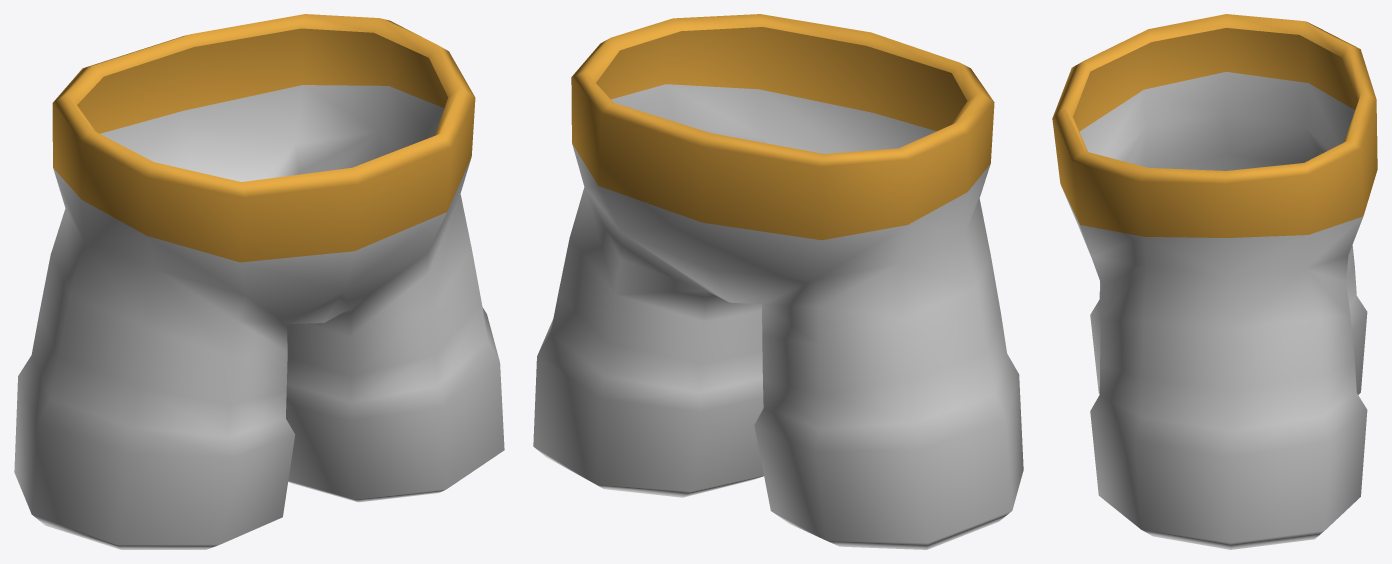
Rendered from Bottom_04_Slim.fbx.
3 views of the same model, side by side, from view 1: azimuth 30°, elevation 25°; view 2: azimuth 150°, elevation 25°; view 3: azimuth 270°, elevation 25° (orthographic). The views are drawn at different scales.
Visible parts, largest first — view 1: Bottom_04_Slim; view 2: Bottom_04_Slim; view 3: Bottom_04_Slim.
Part boxes in pixels (x1,y1,x2,y2): Bottom_04_Slim: [14, 14, 504, 549]; Bottom_04_Slim: [533, 14, 1023, 549]; Bottom_04_Slim: [1052, 14, 1377, 549].
Bounding box in the file's own units: 31.78 × 26.67 × 20.9.
